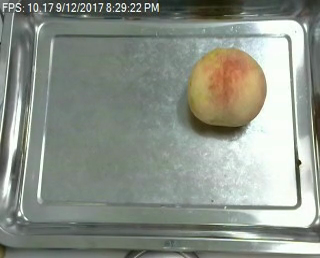Peach: (187, 46, 266, 127)
